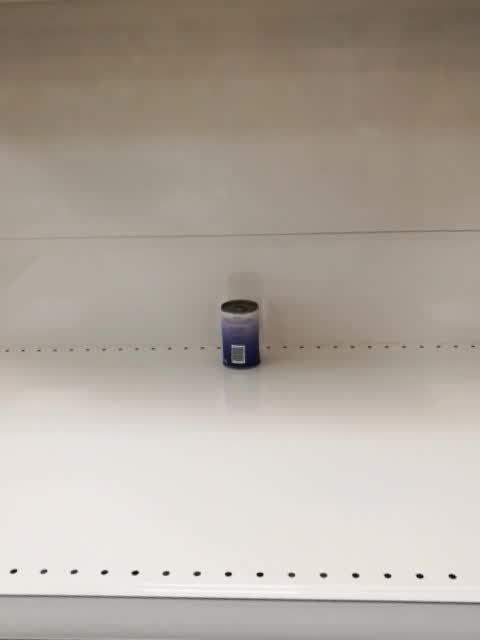sardine: (219, 298, 262, 372)
